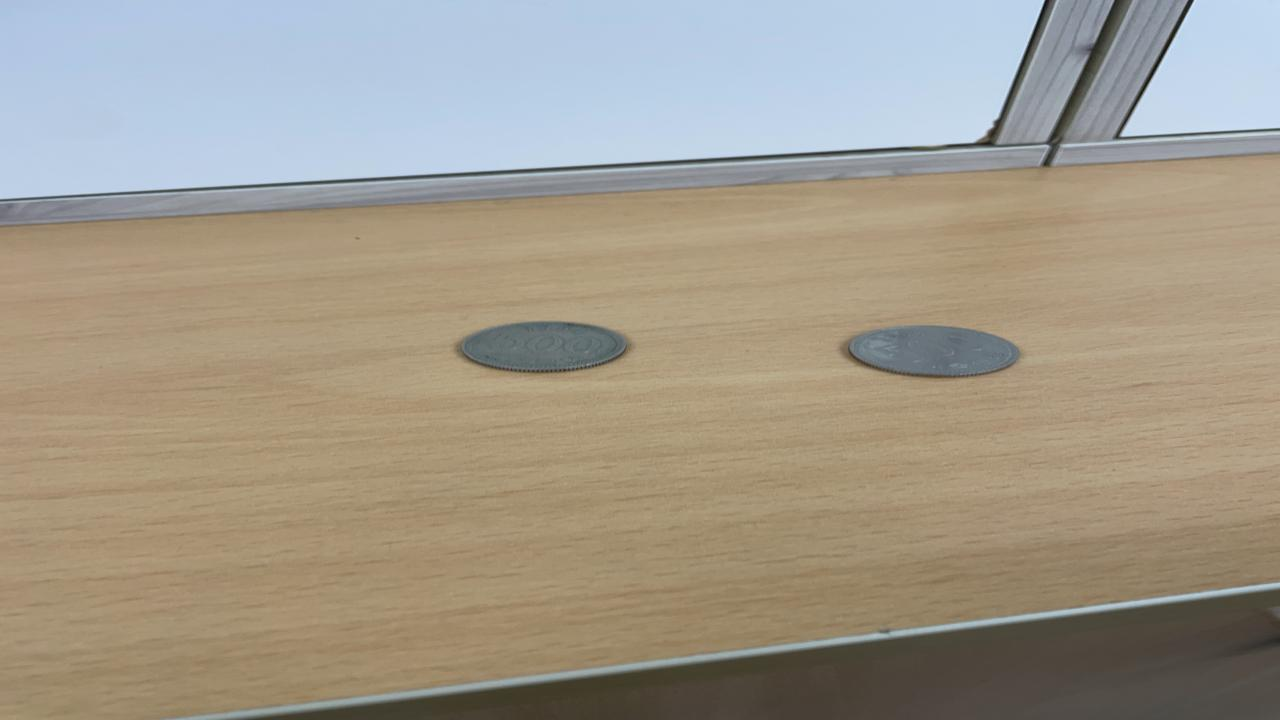coin: (842, 322, 1026, 378), (460, 320, 628, 373)
